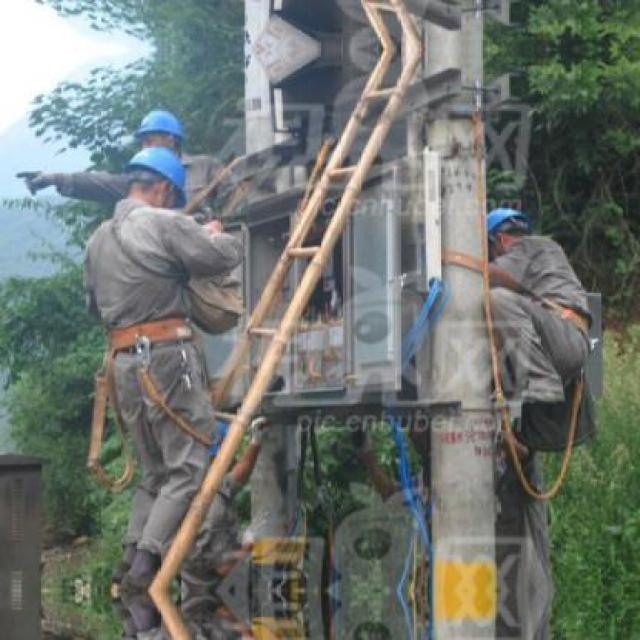helmet: (120, 140, 186, 210), (136, 108, 184, 157), (483, 203, 529, 252)
